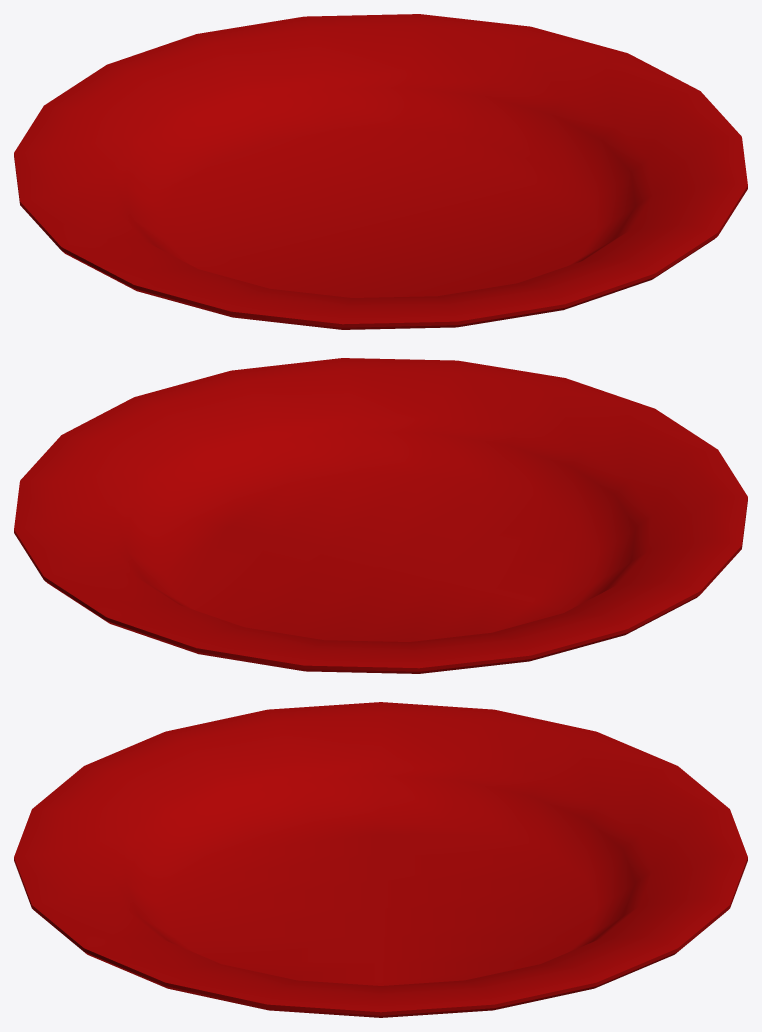
Rendered from RedPlate.fbx.
3 renders of one model, top to bottom at view 1: azimuth 30°, elevation 25°; view 2: azimuth 150°, elevation 25°; view 3: azimuth 270°, elevation 25°, orthographic.
Visible parts, largest first — view 1: pCylinder7; view 2: pCylinder7; view 3: pCylinder7.
Part boxes in pixels (left/top/right/bottom): pCylinder7: left=14, top=14, right=747, bottom=329; pCylinder7: left=14, top=358, right=747, bottom=673; pCylinder7: left=14, top=702, right=747, bottom=1017.
Bounding box in the file's own units: 2.52 × 0.2146 × 2.52.
